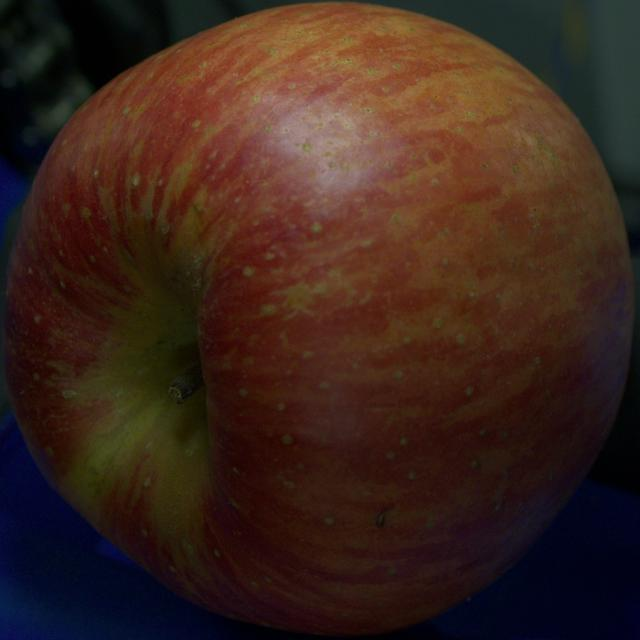apple: (4, 3, 634, 635)
pest: (376, 512, 388, 528)
